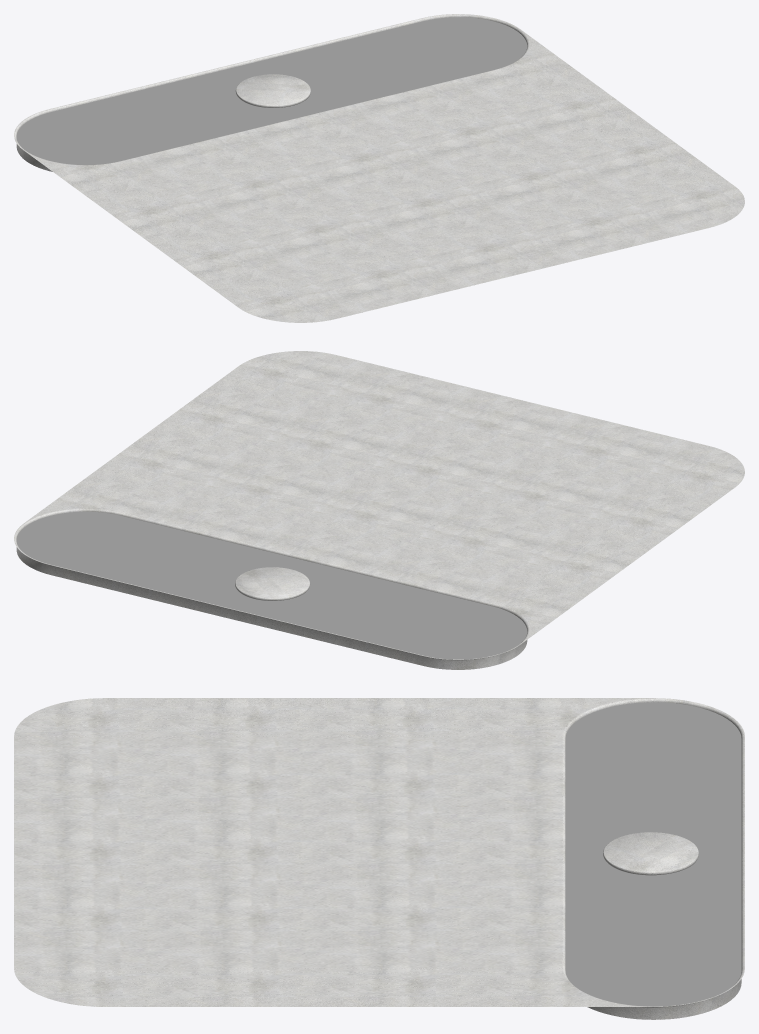
Rendered from A.Renewal.platform.glb.
3 renders of one model, top to bottom at view 1: azimuth 30°, elevation 25°; view 2: azimuth 150°, elevation 25°; view 3: azimuth 270°, elevation 25°, orthographic. The views are drawn at different scales.
Visible parts, largest first — view 1: Cube, Cube.001, Circle_02.036; view 2: Cube, Cube.001, Circle_02.036; view 3: Cube, Cube.001, Circle_02.036.
Boxes of the visible parts, x1,y1,x2,y2 form: Cube: [14, 14, 744, 322]; Cube.001: [16, 17, 527, 164]; Circle_02.036: [235, 74, 310, 107]; Cube: [14, 351, 744, 669]; Cube.001: [16, 511, 527, 659]; Circle_02.036: [235, 567, 310, 600]; Cube: [14, 698, 744, 1019]; Cube.001: [565, 702, 741, 1006]; Circle_02.036: [603, 832, 698, 875].
Bounding box in the file's own units: 4 × 0.0902 × 4.
2 materials, 1 textured.
